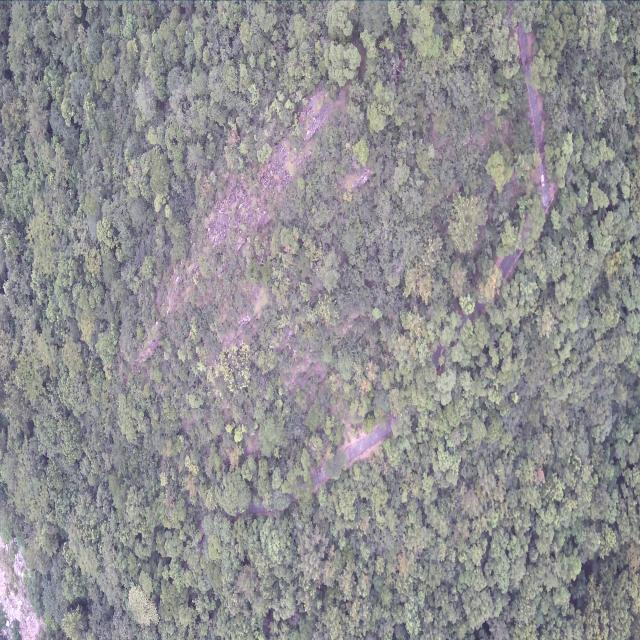drone: (292, 349, 297, 356)
